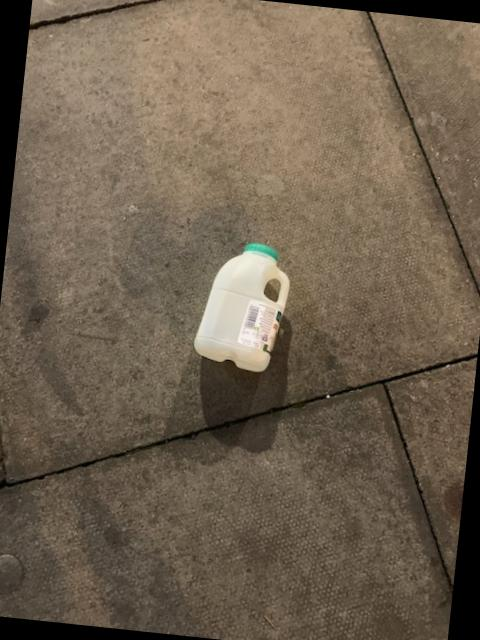plastic: (196, 243, 291, 370)
